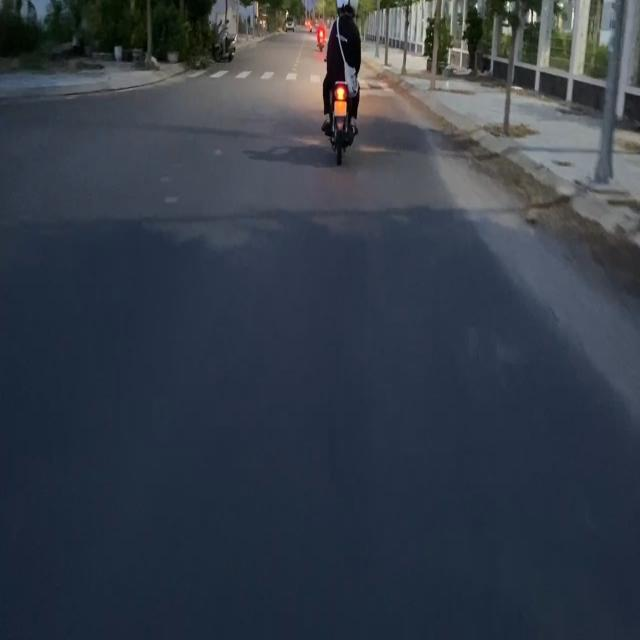walk-crossing: (186, 66, 325, 86)
